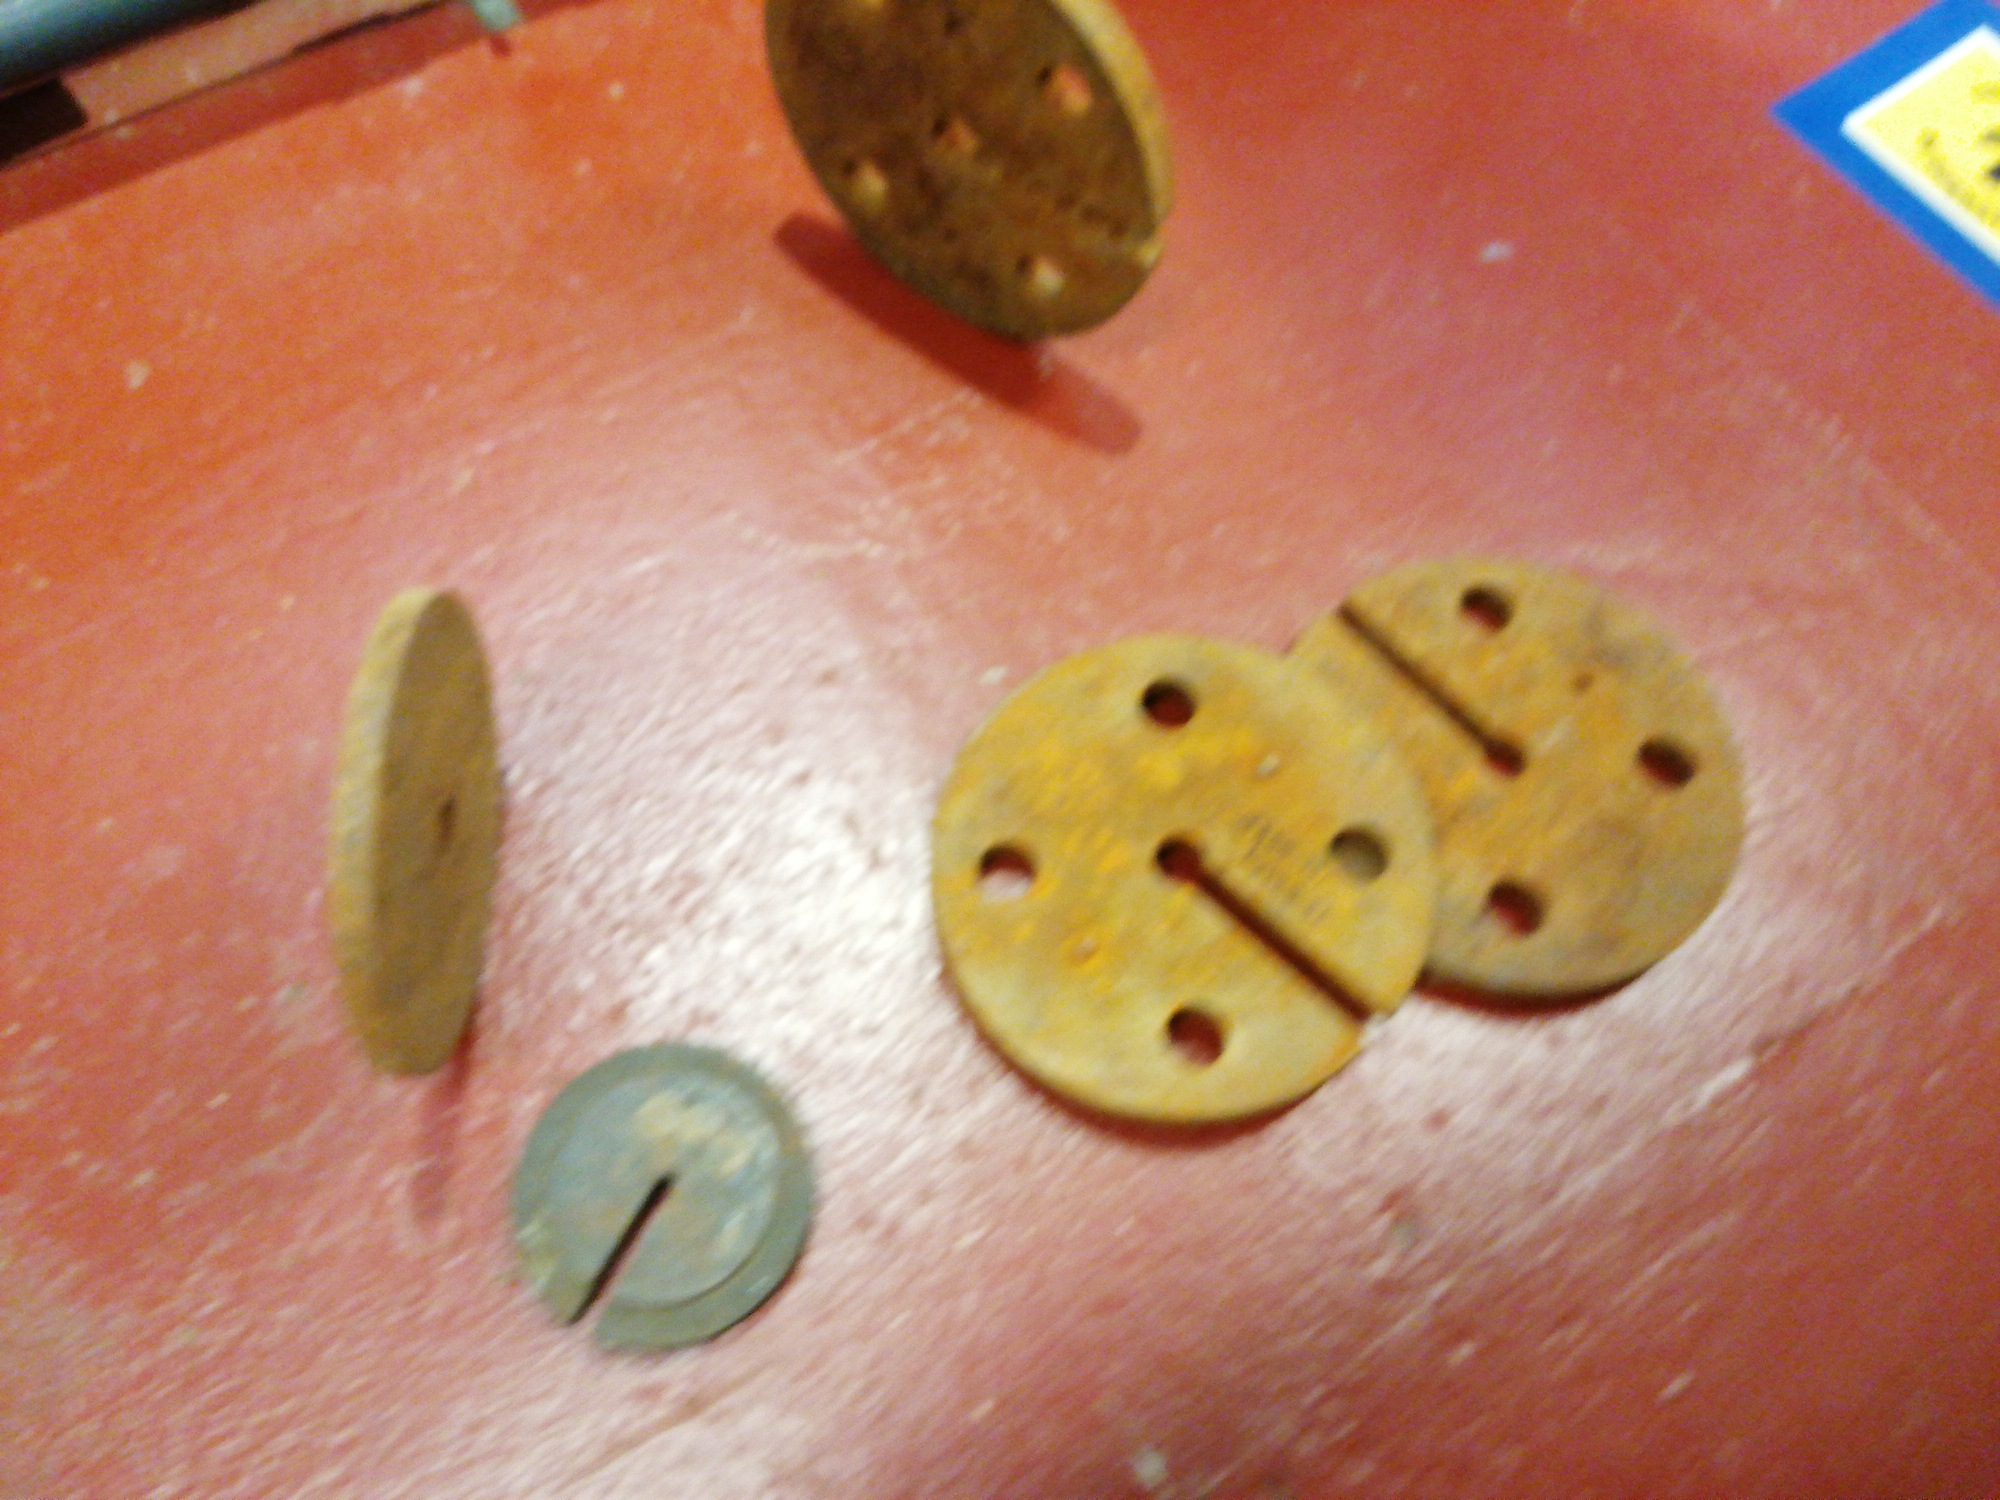flange: (934, 633, 1439, 1130), (1283, 556, 1746, 1005), (756, 2, 1178, 336), (510, 1040, 817, 1357), (326, 585, 506, 1075)
